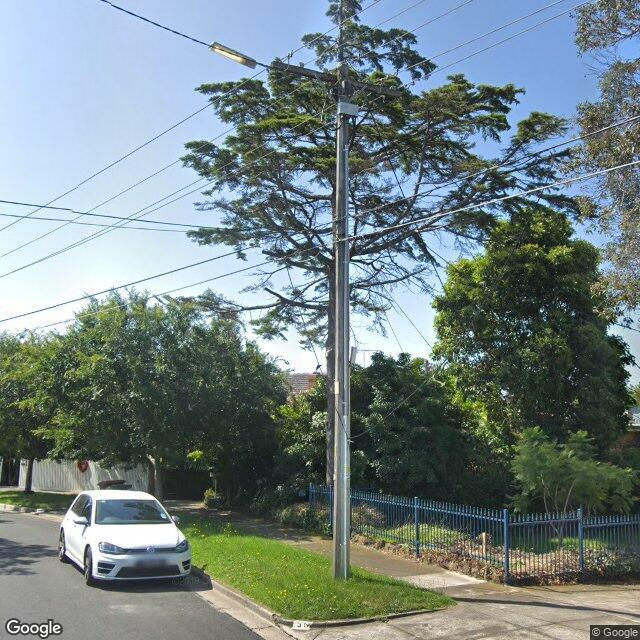crossarm: (270, 62, 402, 98)
streetlight: (208, 42, 270, 70)
timber-pole: (332, 61, 349, 580)
